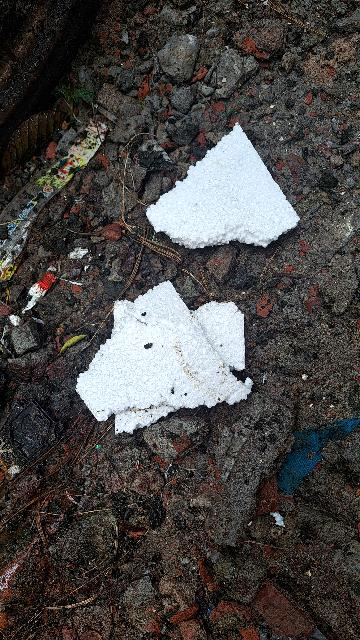cocksheet: (71, 114, 308, 442)
